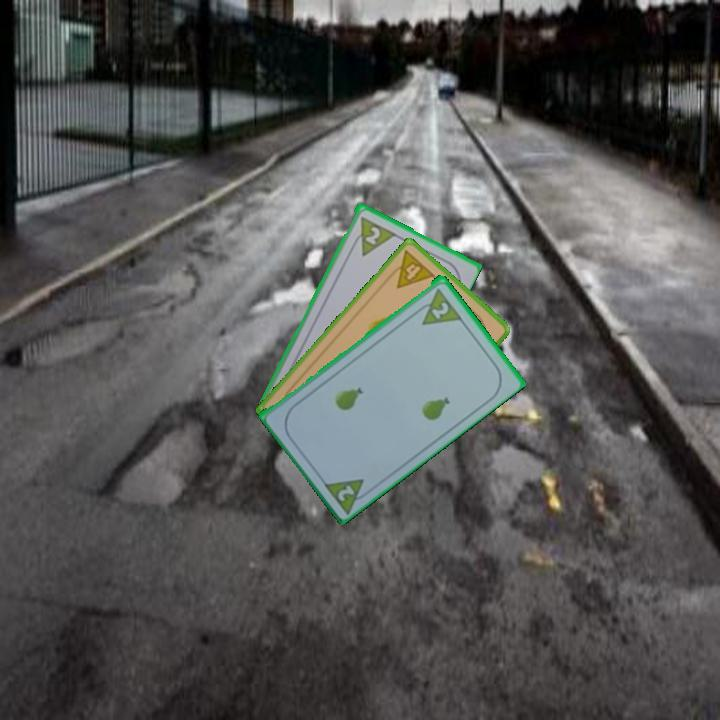2p: (346, 213, 397, 259), (411, 284, 464, 328), (334, 481, 358, 504)
4p: (383, 246, 438, 291)
